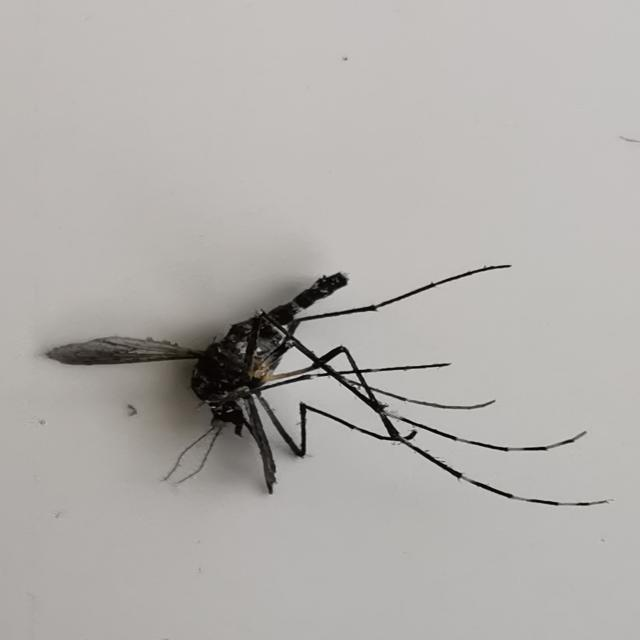albopictus: (74, 242, 590, 524)
